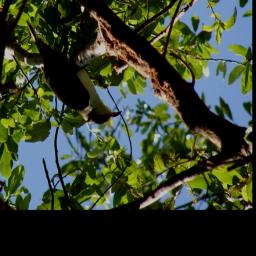Cuckoo: (27, 19, 124, 124)
